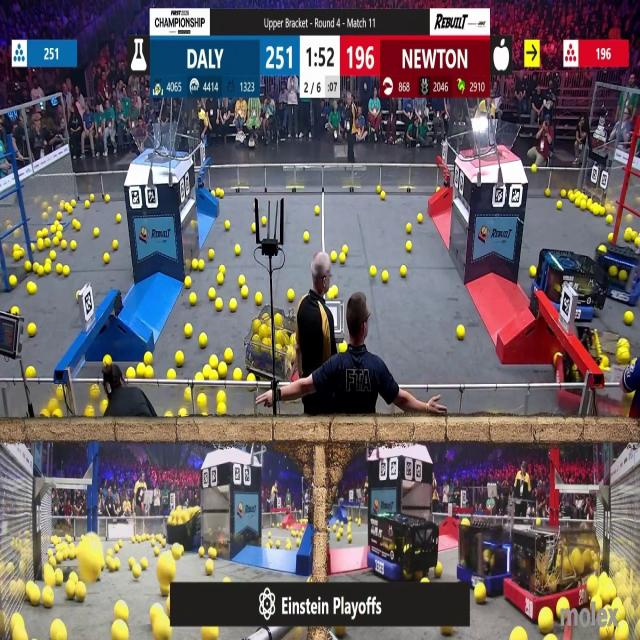ball_airborne: (536, 519, 540, 528)
ball_ground: (76, 584, 85, 602), (218, 362, 227, 378), (198, 393, 208, 407), (199, 334, 208, 349), (224, 348, 232, 364), (175, 352, 184, 366), (184, 323, 192, 338), (136, 364, 146, 376), (217, 404, 226, 417), (145, 364, 153, 378), (457, 324, 465, 338), (206, 560, 214, 574), (56, 570, 64, 584), (234, 367, 243, 379), (27, 365, 36, 377), (28, 323, 36, 336), (435, 563, 442, 577), (230, 300, 238, 312), (144, 352, 152, 364), (28, 282, 36, 294), (184, 388, 191, 401), (287, 288, 294, 301), (217, 391, 225, 402), (44, 264, 52, 275), (210, 355, 218, 366), (209, 548, 217, 559), (184, 276, 191, 288), (215, 300, 222, 312), (141, 558, 148, 570), (399, 266, 406, 278), (128, 367, 136, 377), (87, 408, 95, 418), (9, 276, 16, 287), (209, 288, 216, 299), (406, 241, 413, 252), (255, 292, 261, 304), (189, 292, 195, 304), (530, 266, 536, 278), (209, 248, 215, 260), (55, 410, 63, 419), (179, 409, 187, 418), (169, 368, 176, 378), (190, 261, 197, 271), (63, 267, 70, 277), (592, 205, 599, 215), (104, 252, 110, 263), (198, 261, 204, 272), (382, 272, 388, 283), (242, 286, 248, 297), (26, 262, 32, 273), (341, 252, 347, 263), (130, 558, 136, 569), (94, 229, 101, 238), (236, 245, 242, 255), (57, 266, 63, 276), (369, 267, 375, 277), (217, 274, 223, 284), (62, 240, 68, 250), (223, 576, 230, 584), (70, 241, 76, 250), (407, 223, 413, 232), (606, 215, 612, 224), (49, 250, 55, 259), (305, 233, 310, 243), (331, 252, 336, 262), (200, 548, 205, 558), (248, 375, 255, 382), (12, 306, 18, 314), (557, 202, 563, 210), (112, 241, 117, 250), (418, 214, 423, 223), (219, 266, 224, 275), (53, 236, 58, 245), (84, 202, 90, 209), (544, 187, 549, 195), (105, 193, 110, 201), (224, 220, 228, 229), (316, 207, 320, 216), (116, 214, 120, 223), (422, 577, 428, 583), (71, 199, 76, 206), (252, 223, 256, 231), (562, 188, 566, 196), (608, 234, 612, 242), (90, 193, 94, 201), (348, 534, 352, 542), (532, 165, 536, 173), (296, 538, 300, 545), (338, 534, 342, 540), (201, 264, 204, 271)
goal: (464, 122, 520, 160), (133, 132, 189, 158)
robot_blue: (532, 242, 608, 324), (363, 504, 438, 584), (452, 518, 525, 597), (165, 499, 215, 548), (605, 246, 640, 307)
robot_red: (555, 336, 637, 410), (508, 534, 577, 603), (246, 305, 295, 380), (531, 546, 587, 601)
